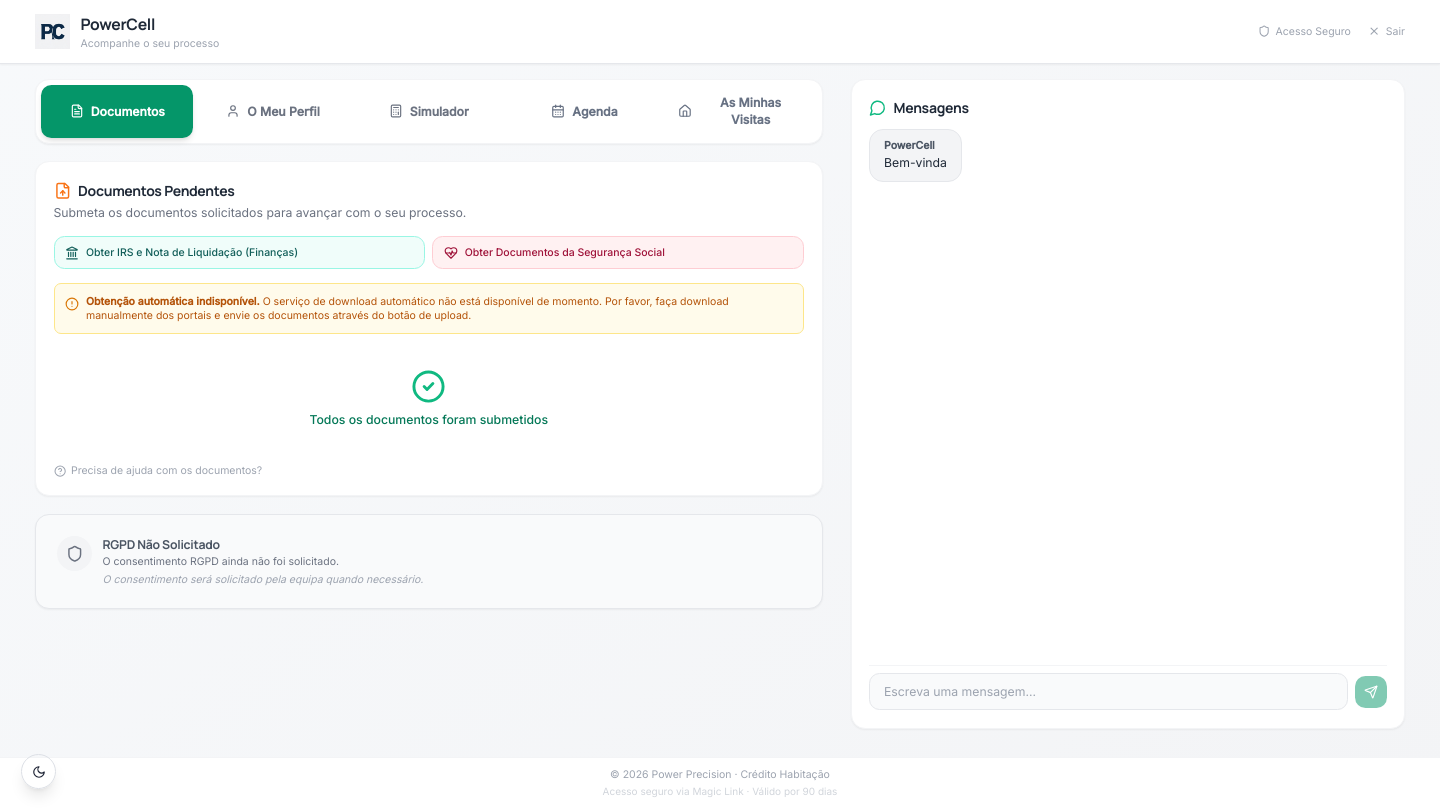
Test case: Portal — «O Meu Perfil» espelha o registo › sem segundo titular o cartão não existe
This screenshot has width=1440, height=810.
(page scrolled)
Click the button "O Meu Perfil". click: (273, 111)
box: [197, 85, 349, 138]
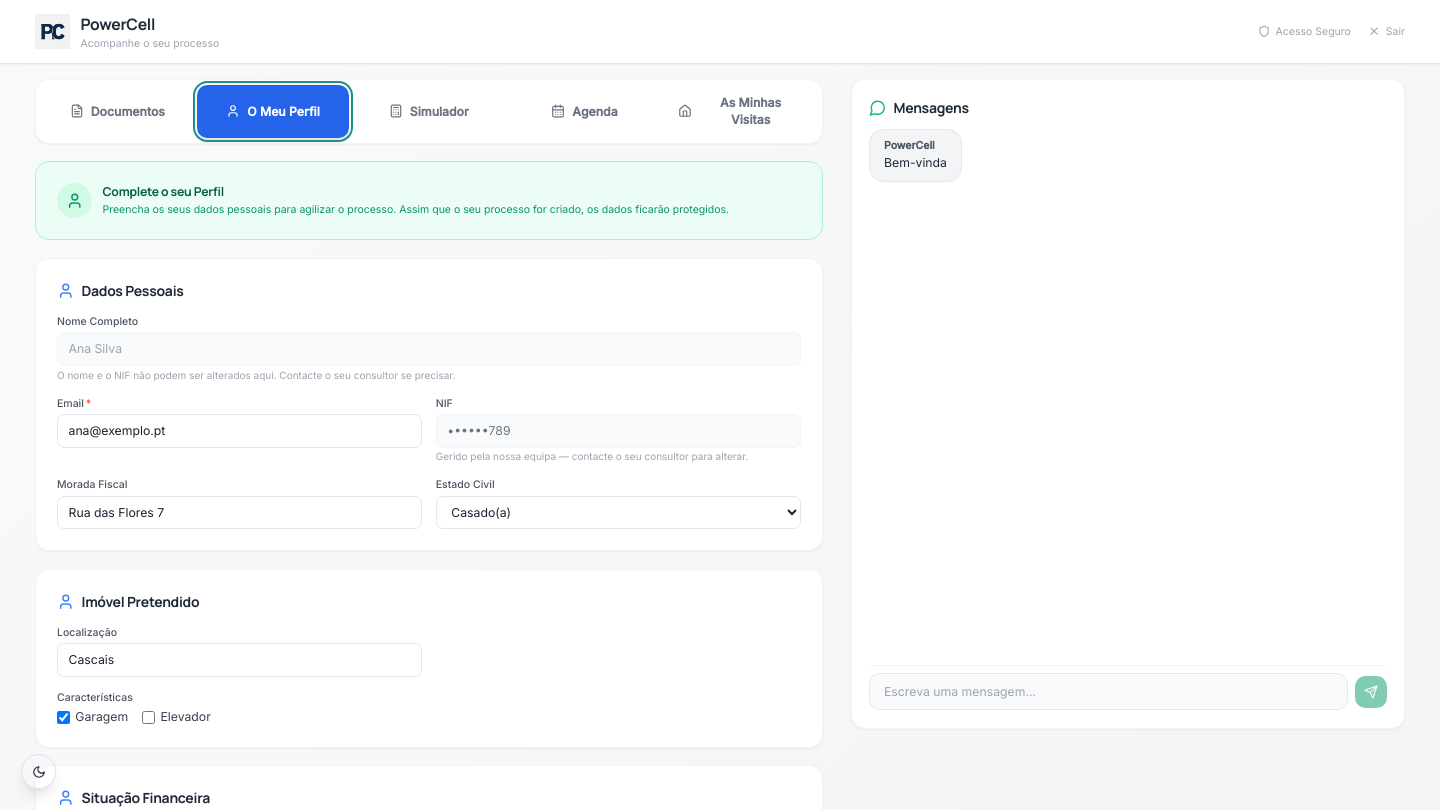
Expected: the element with test id "perfil-seccao-titular" is shown, [35, 258, 822, 551]
